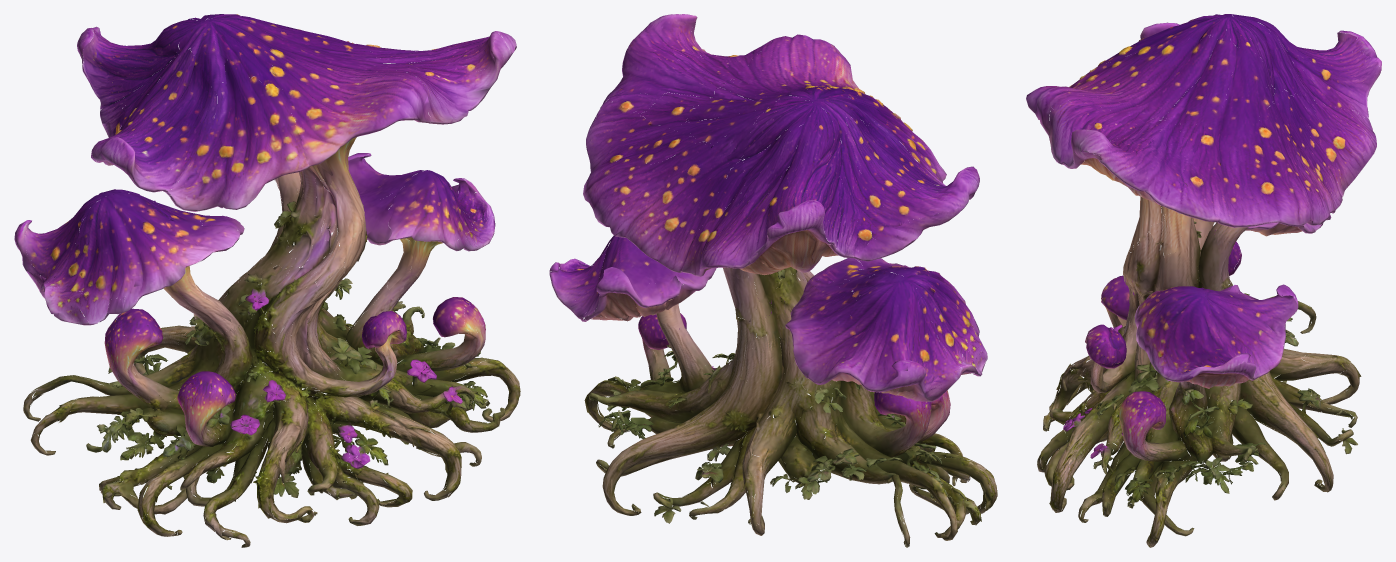
Rendered from mushcluster.glb.
3 views of the same model, side by side, from view 1: azimuth 30°, elevation 25°; view 2: azimuth 150°, elevation 25°; view 3: azimuth 270°, elevation 25° (orthographic). The views are drawn at different scales.
Visible parts, largest first — view 1: tripo_node_9b170abb-ce23-4b85-b632-2eecbc919754; view 2: tripo_node_9b170abb-ce23-4b85-b632-2eecbc919754; view 3: tripo_node_9b170abb-ce23-4b85-b632-2eecbc919754.
Part boxes in pixels (x1=…): tripo_node_9b170abb-ce23-4b85-b632-2eecbc919754: x1=14, y1=14, x2=520, y2=547; tripo_node_9b170abb-ce23-4b85-b632-2eecbc919754: x1=549, y1=14, x2=997, y2=547; tripo_node_9b170abb-ce23-4b85-b632-2eecbc919754: x1=1026, y1=14, x2=1381, y2=547.
Bounding box in the file's own units: 6.12 × 6 × 4.49.
Materials: 1 (1 with a texture image).
